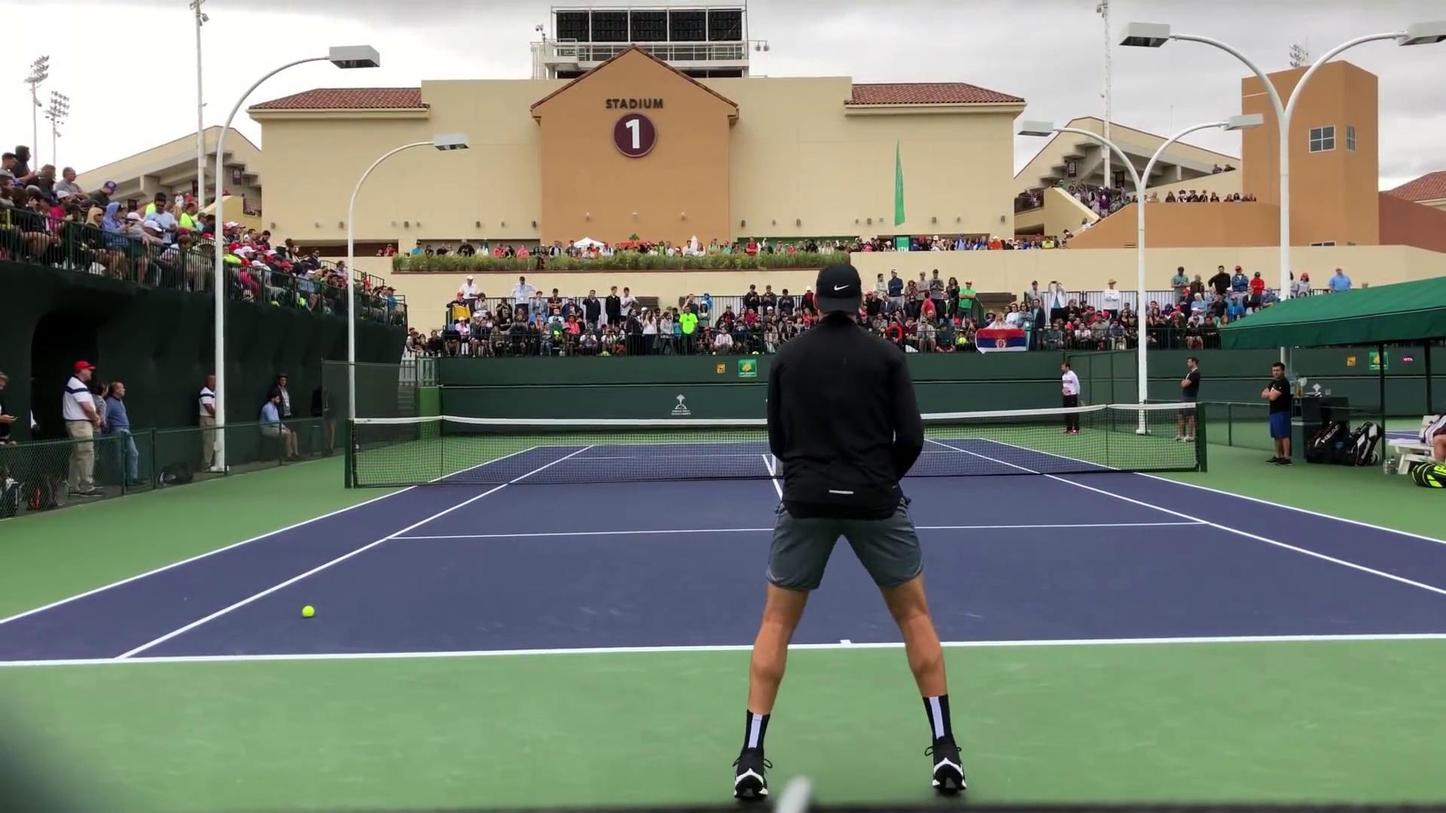ball: (302, 605, 315, 617), (918, 411, 923, 416)
